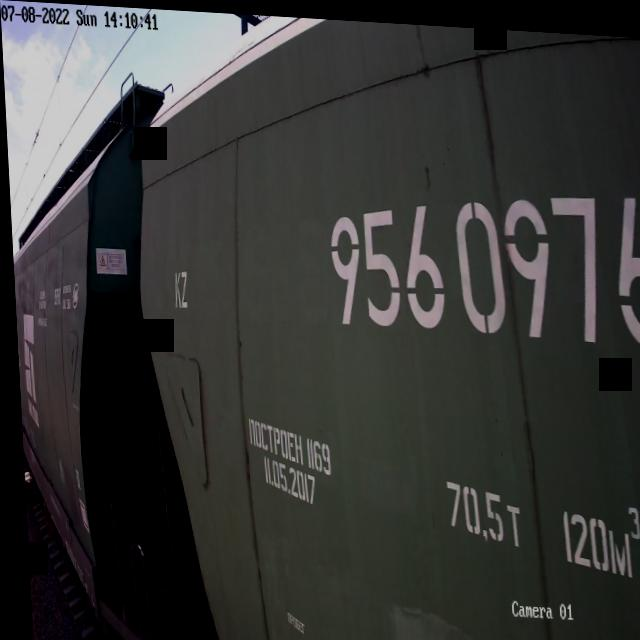hopper: (114, 5, 640, 640), (2, 59, 192, 640)
